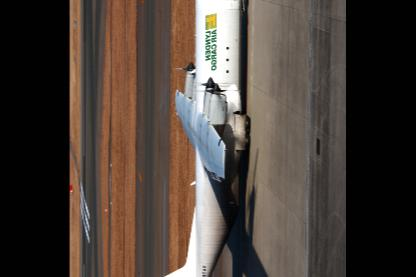Be200: (117, 0, 251, 276)
